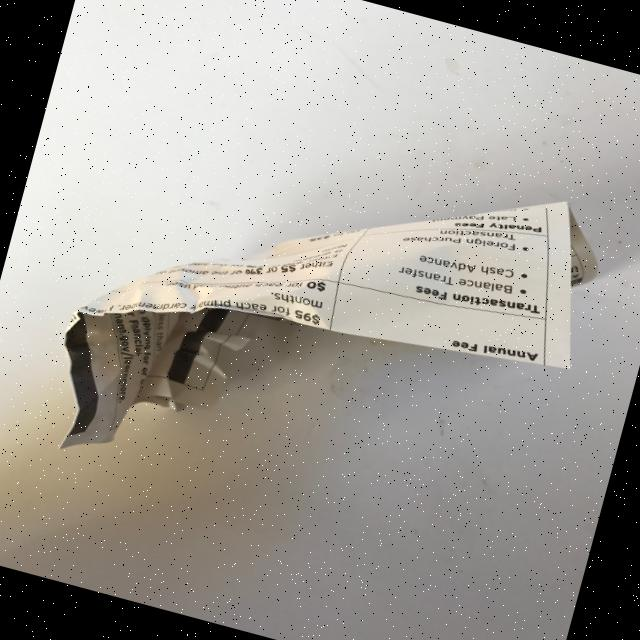paper: (34, 82, 614, 570)
